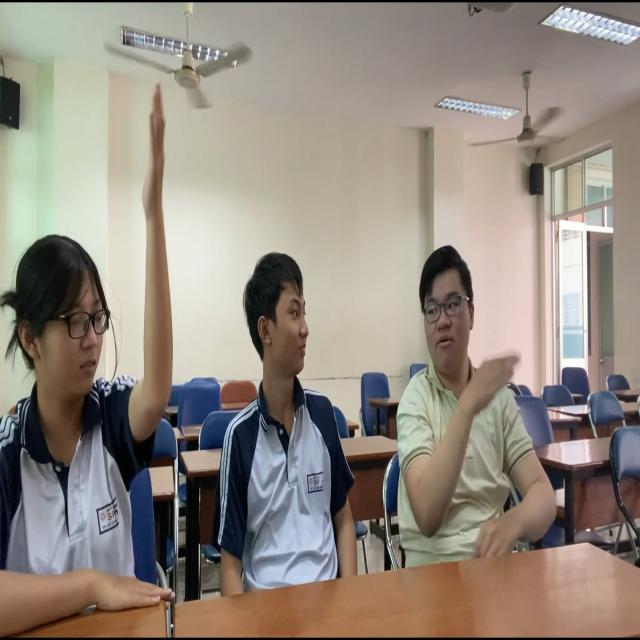raise_hand: (2, 76, 199, 637)
